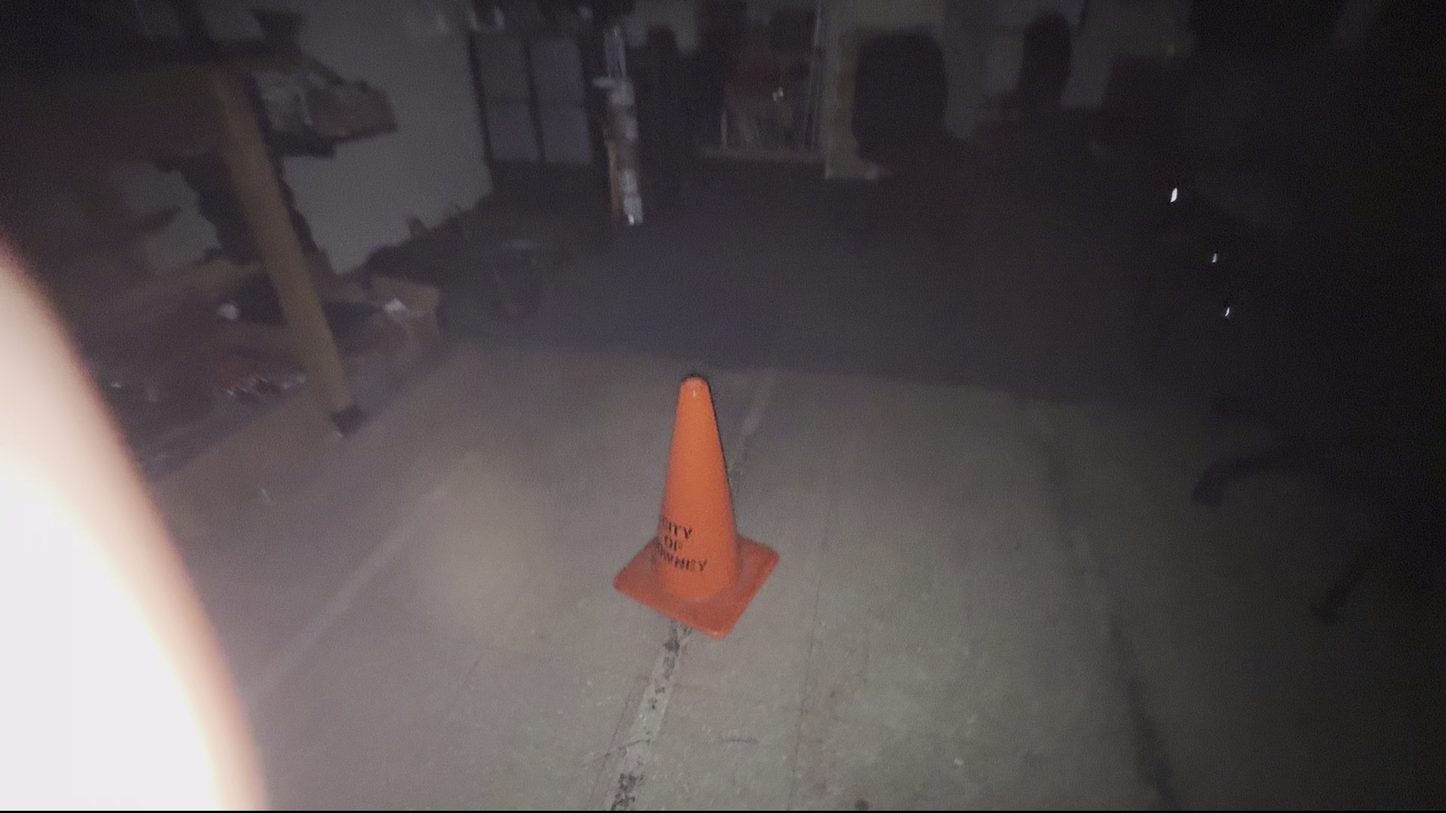traffic_cone: (612, 373, 780, 640)
